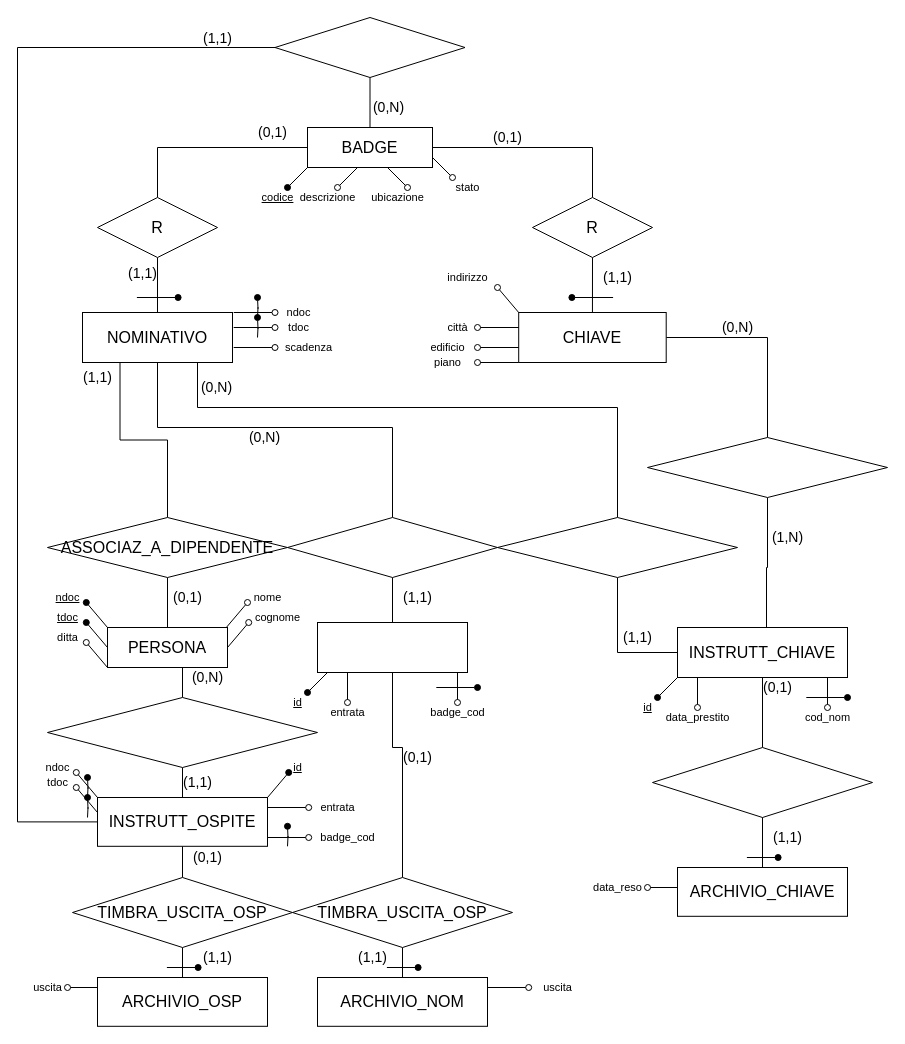
This 905x1044 diagram has some shape labels left out. Here are the shapes that lost their labels. From the top down, the centre of each, then its label:
point 369,47: TIMBRATURA_OSP
point 767,467: CHIAVE_IN_PRESTITO
point 392,547: TIMBRA_ENTRATA_NOM
point 617,547: PRESTITO_CHIAVE
point 392,647: INSTRUTT_NOM
point 182,732: IDENTIFICAZIONE_OSP
point 762,782: RESO_CHIAVE
